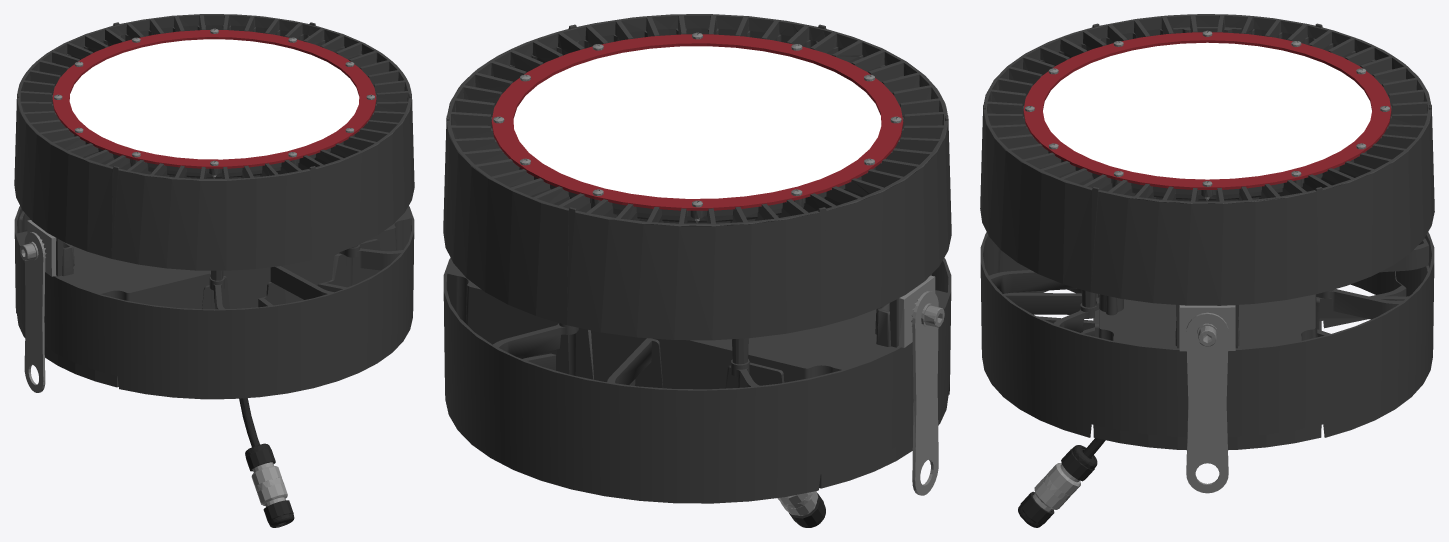
Rendered from L-industry-ll-Pro.glb.
3 views of the same model, side by side, from view 1: azimuth 30°, elevation 25°; view 2: azimuth 150°, elevation 25°; view 3: azimuth 270°, elevation 25° (orthographic). The views are drawn at different scales.
Parts seen in each view (by area): view 1: Äèàìåòð îòâåðñòèÿ O3.5 (3.5)1; view 2: Äèàìåòð îòâåðñòèÿ O3.5 (3.5)1; view 3: Äèàìåòð îòâåðñòèÿ O3.5 (3.5)1.
Part boxes in pixels (<box>): Äèàìåòð îòâåðñòèÿ O3.5 (3.5)1: <box>14,14,414,527</box>; Äèàìåòð îòâåðñòèÿ O3.5 (3.5)1: <box>443,14,951,527</box>; Äèàìåòð îòâåðñòèÿ O3.5 (3.5)1: <box>980,14,1434,527</box>.
Size of the model in its own units: 0.354 by 0.3322 by 0.3213.
